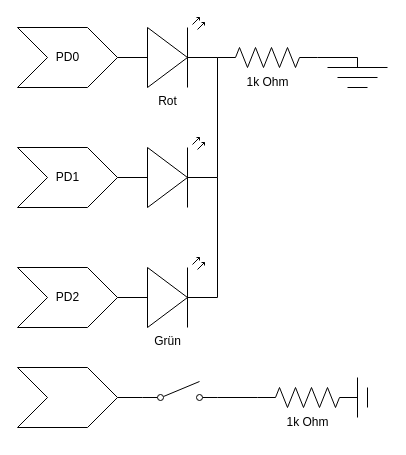
Some shapes in this 406 by 455 pixel diagram are drawn without their labels. The shapes that lost their labels are listed below. From the top down, each one's centre as x and y in pixels, then its label:
At point (167, 172): "Gelb".
At point (67, 397): "PD3".
